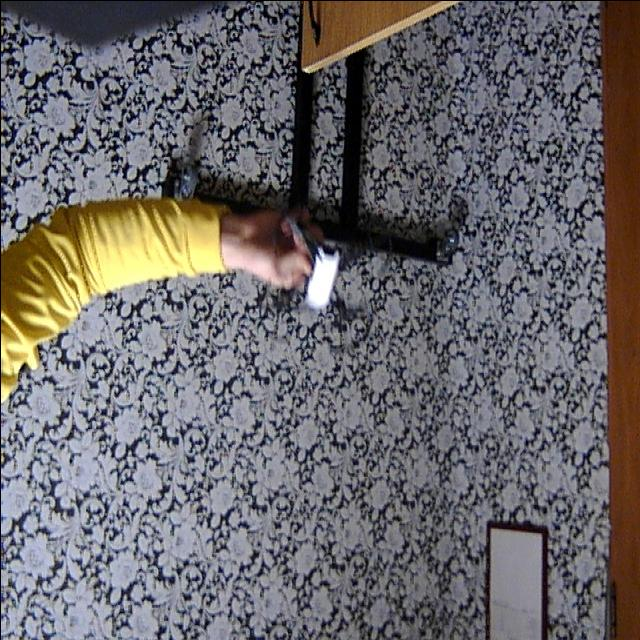drone: (260, 190, 386, 358)
